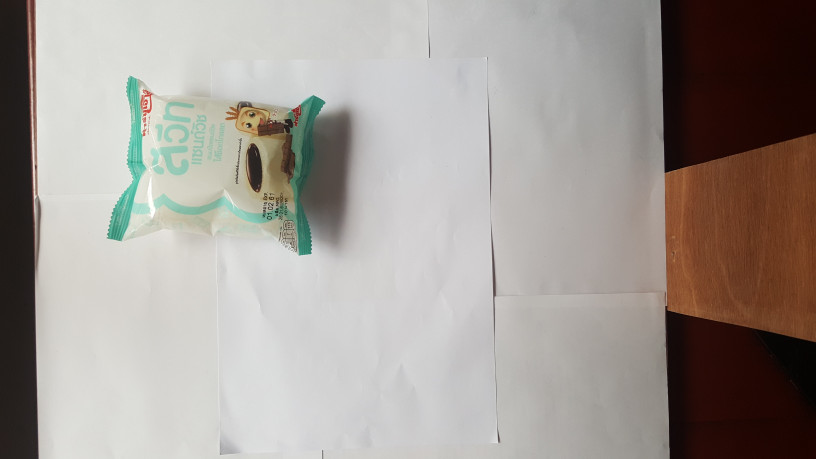farmhouse-sweetsandwich-chocolate: (104, 71, 325, 261)
